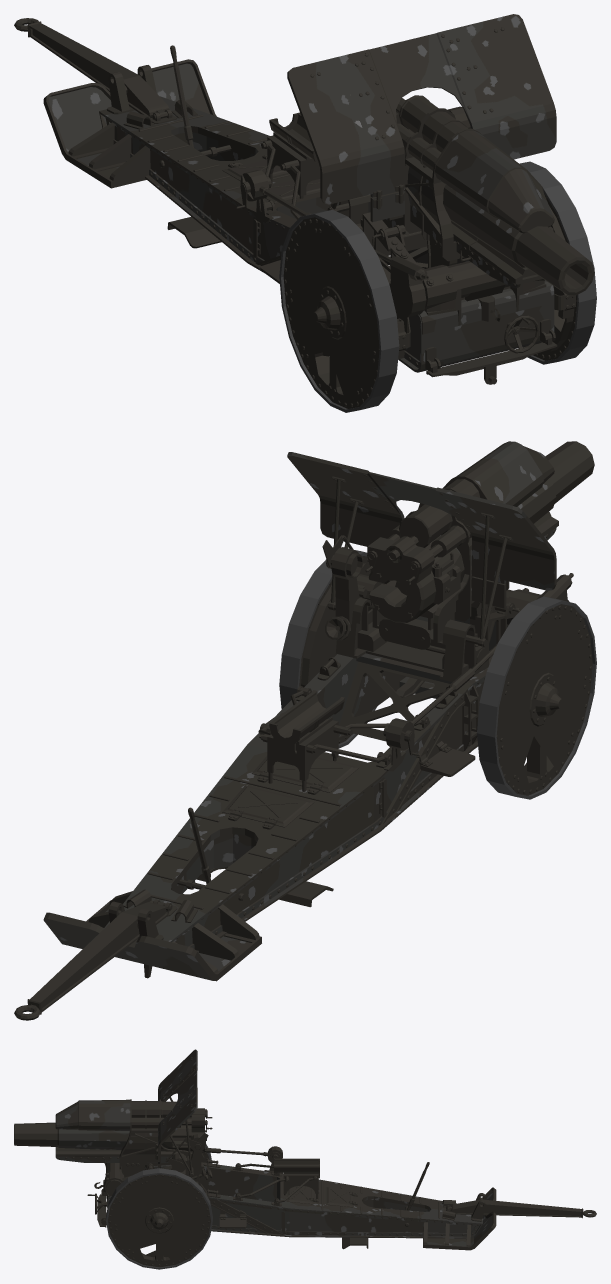
The model's file is Veh_21-CM_01.fbx.
3 views of the same model, one above another, from view 1: azimuth 30°, elevation 25°; view 2: azimuth 150°, elevation 25°; view 3: azimuth 270°, elevation 25° (orthographic). The views are drawn at different scales.
Parts seen in each view (by area): view 1: Veh_21-CM_01_LOD0, Veh_21-CM_01_Wheel_R_LOD0, Veh_21-CM_01_Cannon_LOD0, Veh_21-CM_01_Gun_LOD0, Veh_21-CM_01_Wheel_L_LOD0; view 2: Veh_21-CM_01_LOD0, Veh_21-CM_01_Wheel_R_LOD0, Veh_21-CM_01_Cannon_LOD0, Veh_21-CM_01_Gun_LOD0, Veh_21-CM_01_Wheel_L_LOD0, Veh_21-CM_01_Shutter_LOD0; view 3: Veh_21-CM_01_LOD0, Veh_21-CM_01_Wheel_L_LOD0, Veh_21-CM_01_Cannon_LOD0, Veh_21-CM_01_Gun_LOD0.
Part boxes in pixels (<box>): Veh_21-CM_01_LOD0: <box>14,14,575,384</box>; Veh_21-CM_01_Wheel_R_LOD0: <box>279,209,399,412</box>; Veh_21-CM_01_Cannon_LOD0: <box>387,95,554,288</box>; Veh_21-CM_01_Gun_LOD0: <box>396,98,594,295</box>; Veh_21-CM_01_Wheel_L_LOD0: <box>519,161,596,364</box>; Veh_21-CM_01_LOD0: <box>14,452,573,1020</box>; Veh_21-CM_01_Wheel_R_LOD0: <box>477,596,596,799</box>; Veh_21-CM_01_Cannon_LOD0: <box>372,441,558,697</box>; Veh_21-CM_01_Gun_LOD0: <box>365,441,594,622</box>; Veh_21-CM_01_Wheel_L_LOD0: <box>279,550,377,748</box>; Veh_21-CM_01_Shutter_LOD0: <box>395,552,460,604</box>; Veh_21-CM_01_LOD0: <box>87,1049,596,1250</box>; Veh_21-CM_01_Wheel_L_LOD0: <box>106,1168,212,1269</box>; Veh_21-CM_01_Cannon_LOD0: <box>55,1099,192,1177</box>; Veh_21-CM_01_Gun_LOD0: <box>14,1108,212,1151</box>.
Size of what is drawn, in the model's own units: 198 by 241 by 777.
